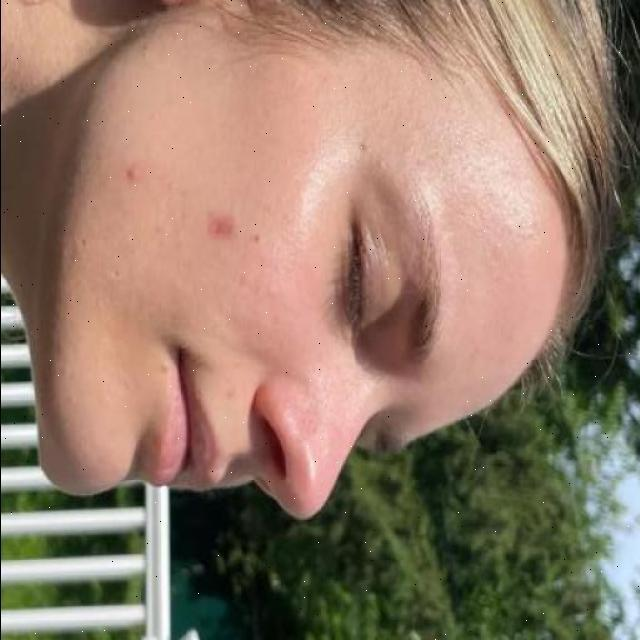Acne: (116, 134, 250, 266)
